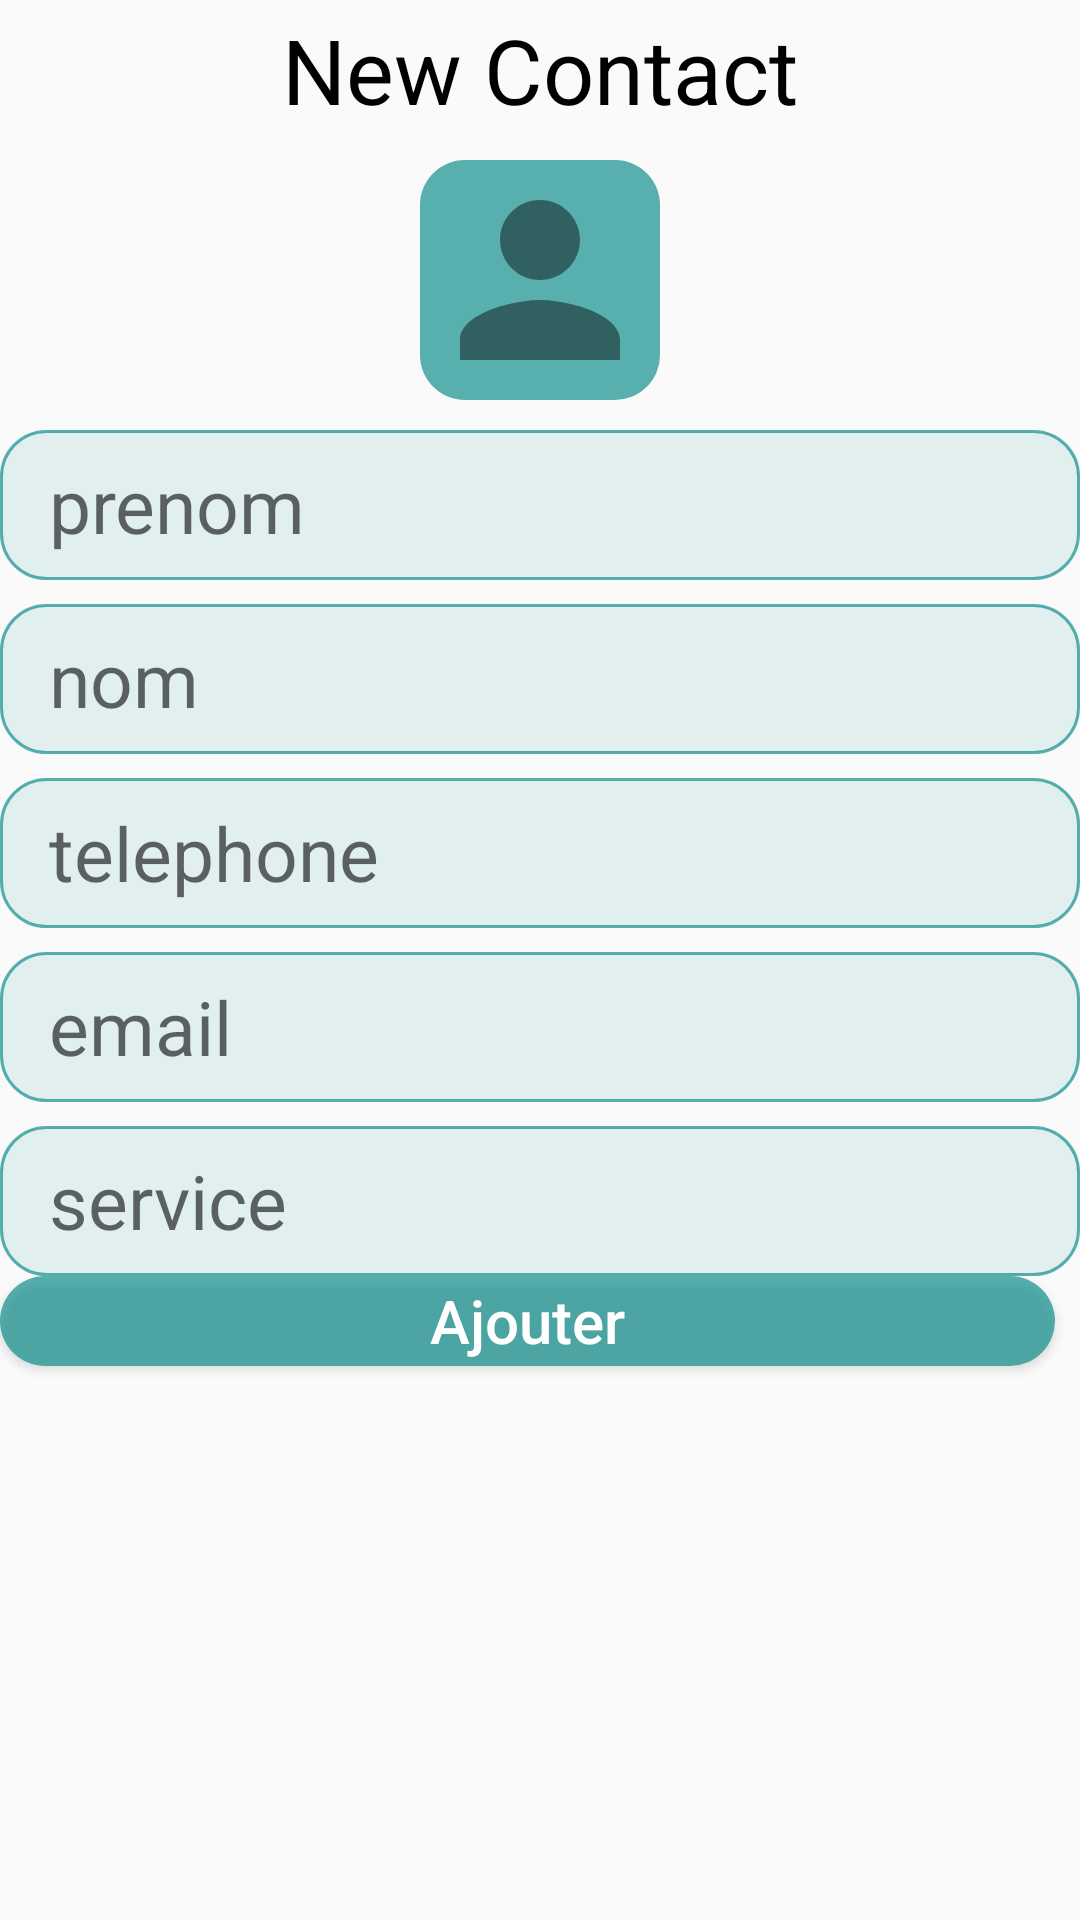

Named icons in this screenshot (1080x1920) and their bounding boxes, [x1,y1,x2,y2]:
person: [420,160,660,400]
